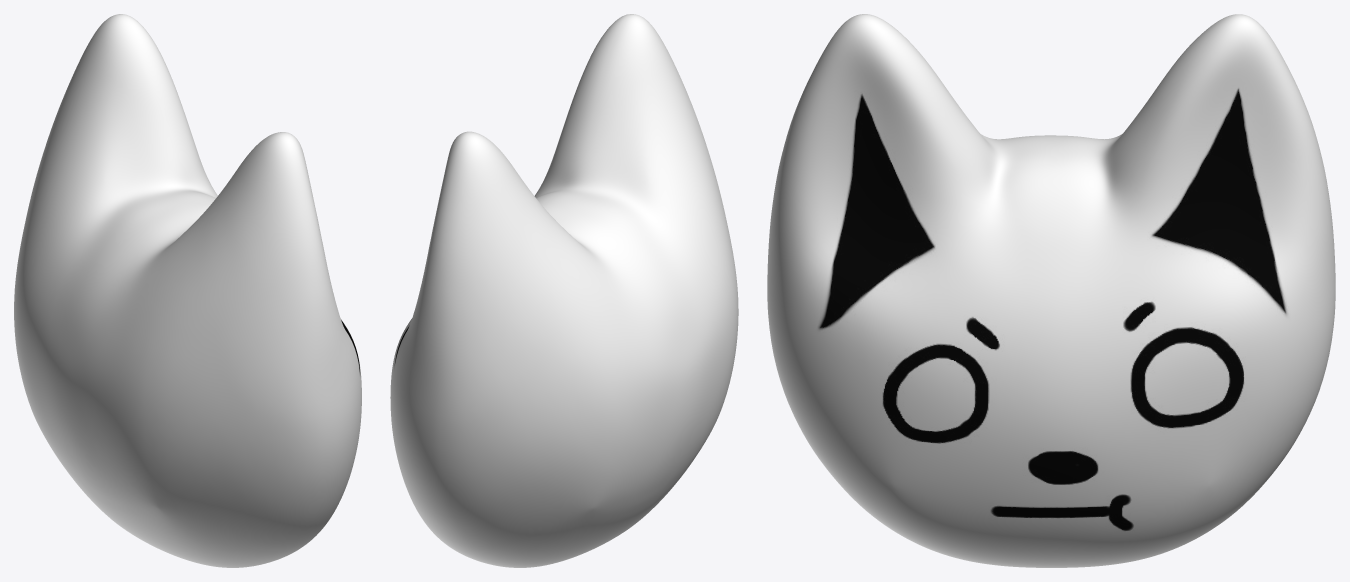
The model's file is fin.glb.
3 renders of one model, left to right at view 1: azimuth 30°, elevation 25°; view 2: azimuth 150°, elevation 25°; view 3: azimuth 270°, elevation 25°, orthographic. The views are drawn at different scales.
Visible parts, largest first — view 1: Quad Sphere; view 2: Quad Sphere; view 3: Quad Sphere.
Part boxes in pixels (left/top/right/bottom): Quad Sphere: left=14, top=14, right=361, bottom=567; Quad Sphere: left=390, top=14, right=738, bottom=567; Quad Sphere: left=767, top=14, right=1335, bottom=567.
Size of the model in its own units: 1.57 by 2.91 by 2.76.
1 material, 1 textured.
